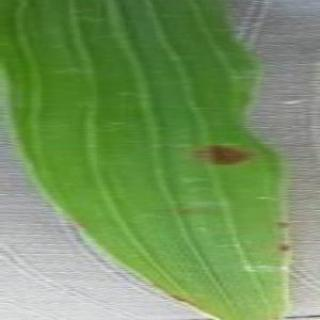bercak-Cokelat: (191, 138, 261, 180)
